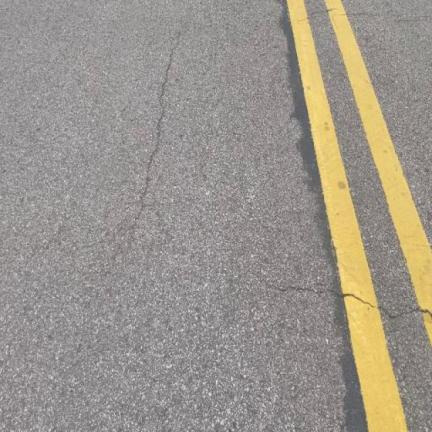Road: (0, 0, 372, 431)
